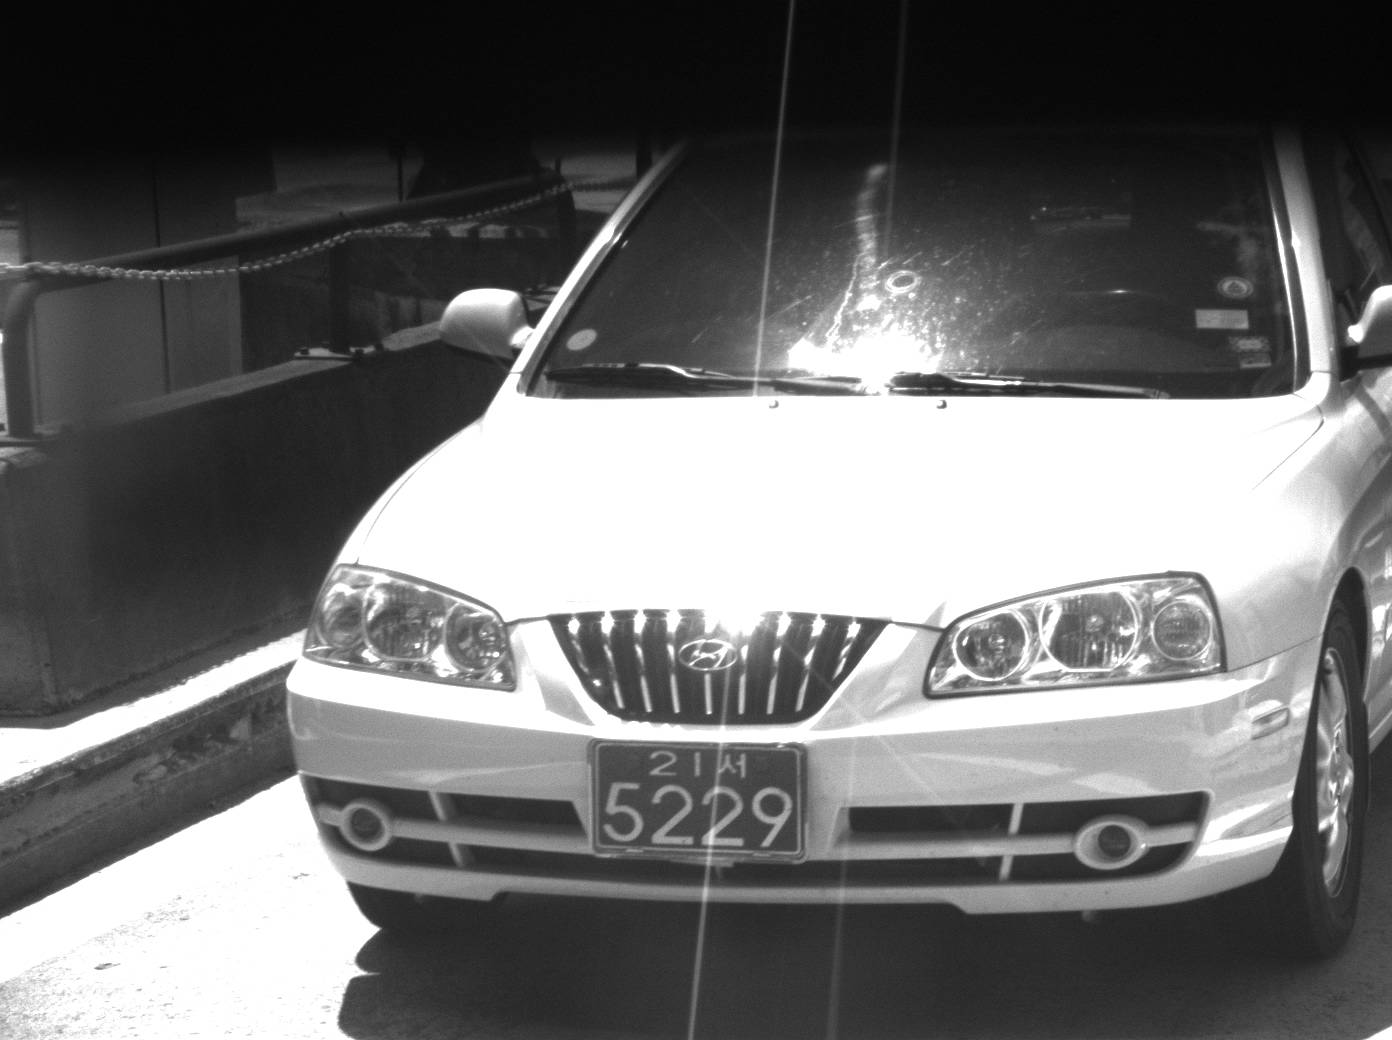car: (287, 121, 1392, 969)
plate: (590, 743, 805, 855)
